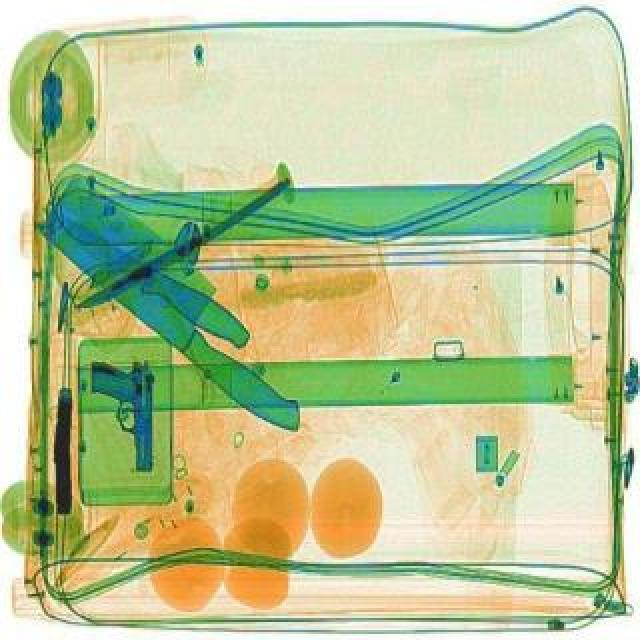gun: (90, 358, 156, 470), (48, 384, 76, 512)
knife: (20, 166, 342, 440), (32, 186, 258, 354), (66, 176, 298, 314)
